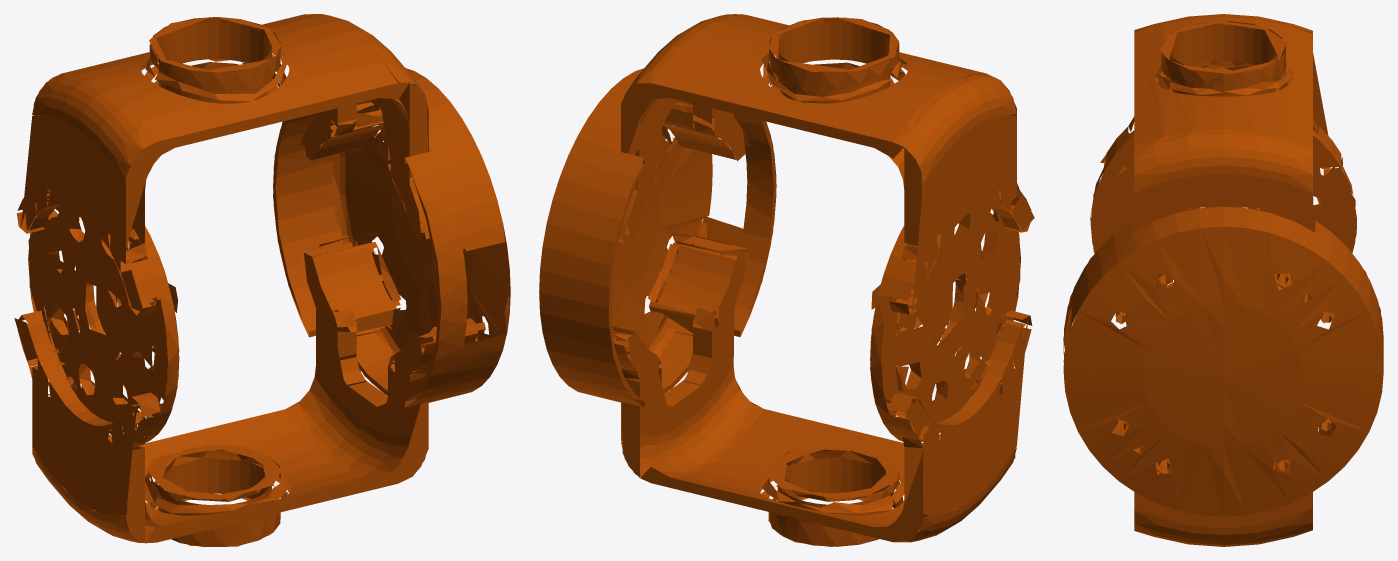
The model's file is ankle.stl.obj.
3 renders of one model, left to right at view 1: azimuth 30°, elevation 25°; view 2: azimuth 150°, elevation 25°; view 3: azimuth 270°, elevation 25°, orthographic. The views are drawn at different scales.
Visible parts, largest first — view 1: <STL_BINARY>; view 2: <STL_BINARY>; view 3: <STL_BINARY>.
Boxes of the visible parts, x1,y1,x2,y2 form: <STL_BINARY>: [14, 14, 510, 546]; <STL_BINARY>: [539, 14, 1034, 546]; <STL_BINARY>: [1063, 14, 1383, 546].
Size of the model in its own units: 0.0951 by 0.12 by 0.0771.
